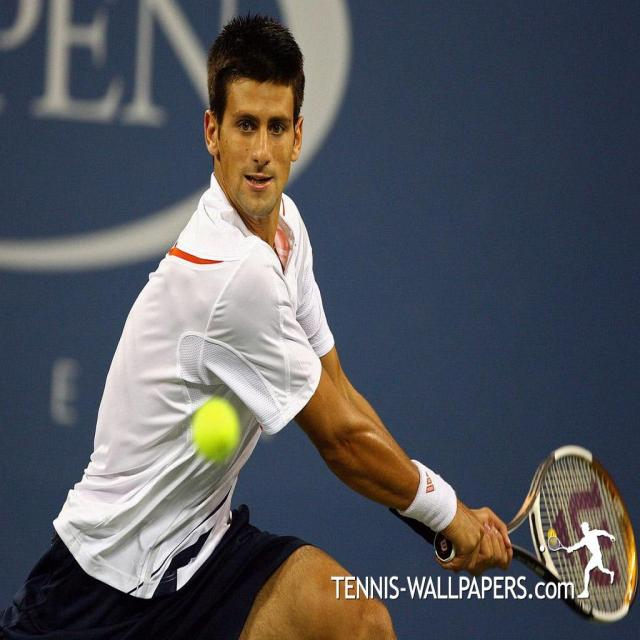nomask: (220, 72, 296, 216)
